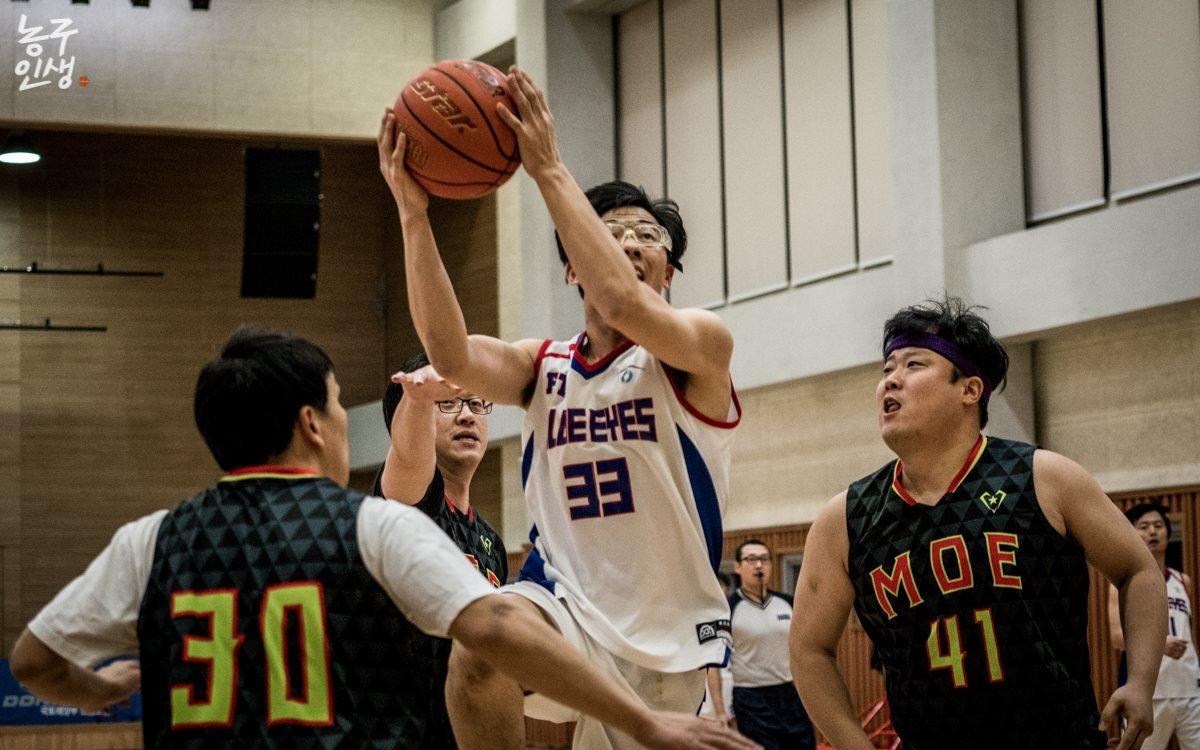defense: (41, 333, 538, 750), (792, 287, 1186, 750)
shoot: (341, 41, 776, 750)
